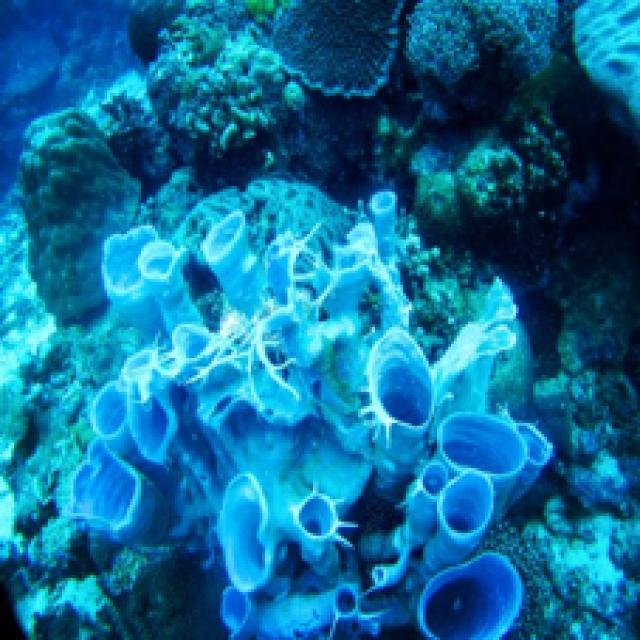Healthy: (71, 193, 551, 638), (150, 1, 334, 184), (21, 111, 139, 322), (404, 1, 556, 117), (576, 1, 638, 125)
